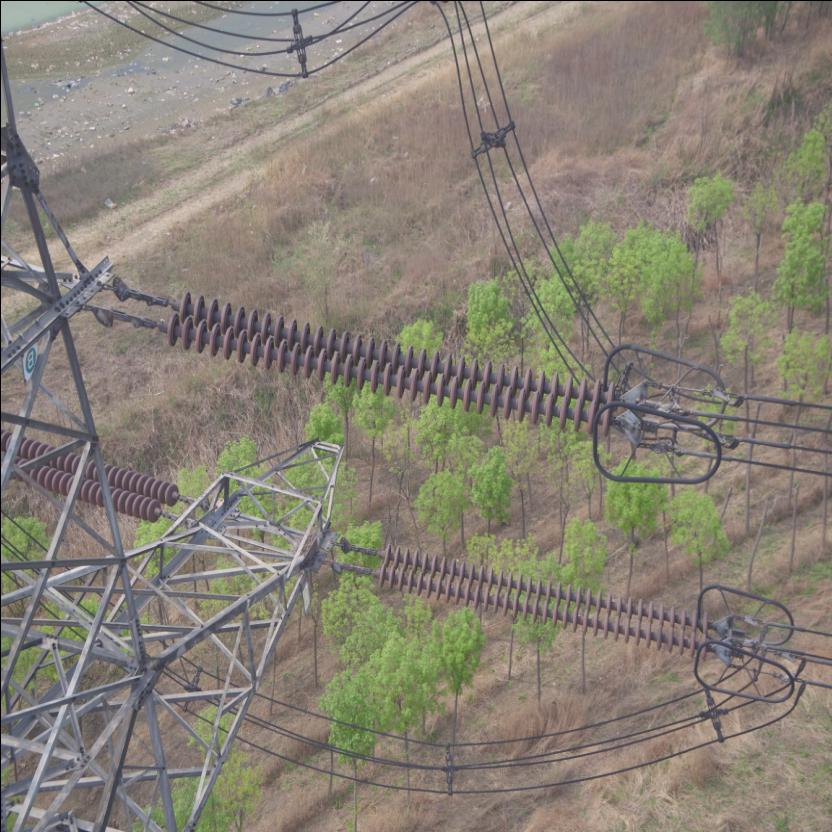insulator: (127, 284, 626, 438), (360, 541, 718, 663)
